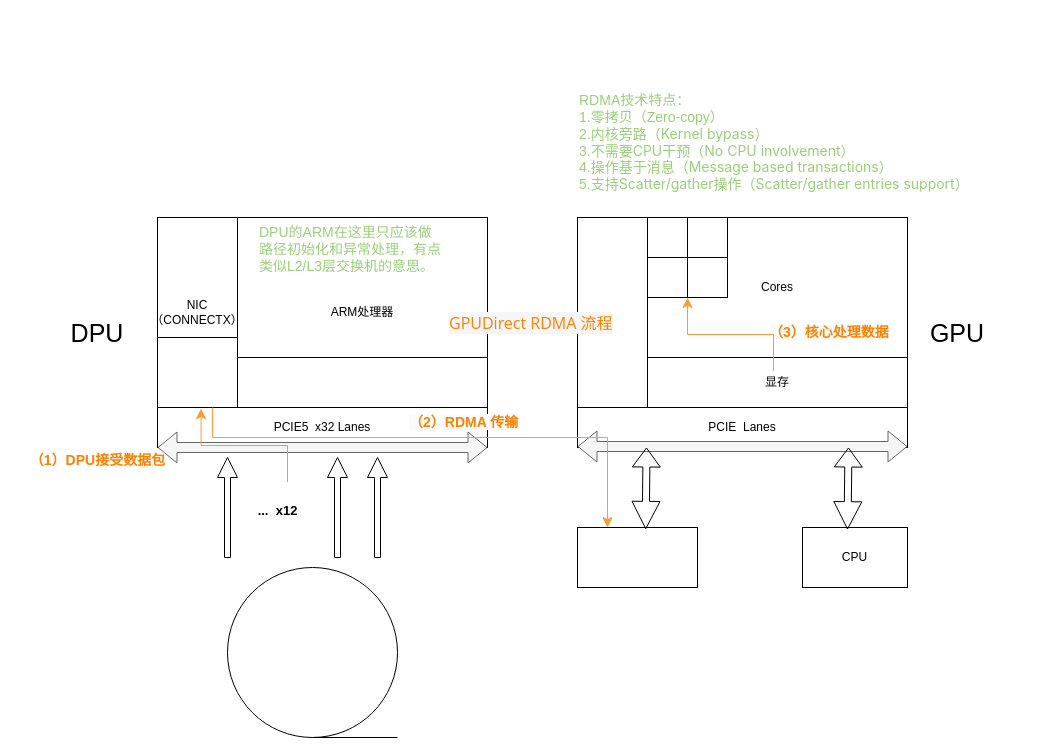
Some shapes in this 1064 by 755 pixel diagram are drawn without their labels. The shapes that lost their labels are listed below. From the top down, each one's centre as x and y in pixels, then its label:
At pixel 197 372: "1G buffer".
At pixel 362 382: "DPU Switch".
At pixel 637 557: "NIC网卡".
At pixel 312 652: "探测器组".
